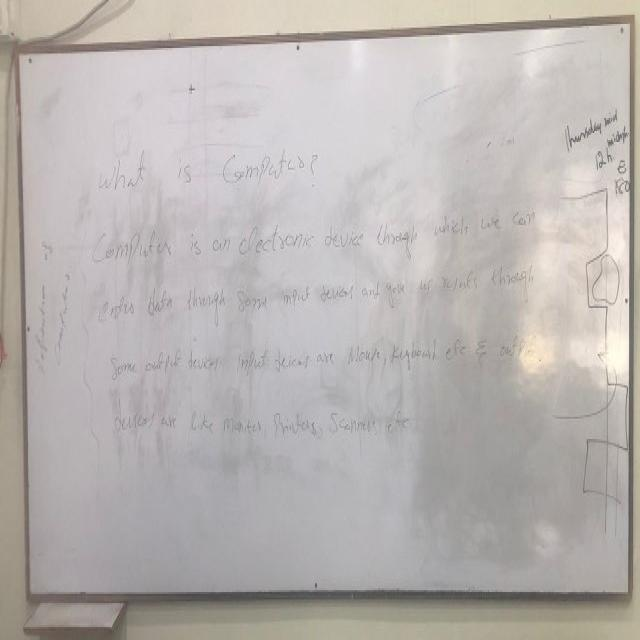White-board: (19, 14, 631, 598)
